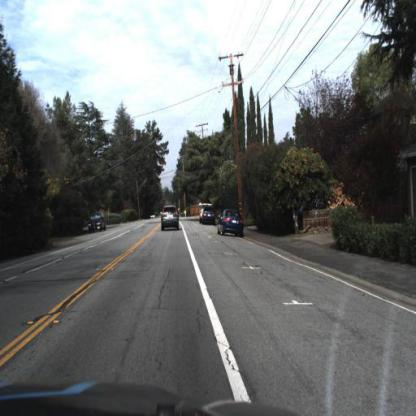car: (215, 203, 249, 241), (160, 202, 187, 239), (87, 210, 107, 237), (200, 204, 220, 229), (89, 211, 109, 235), (201, 205, 215, 226)
